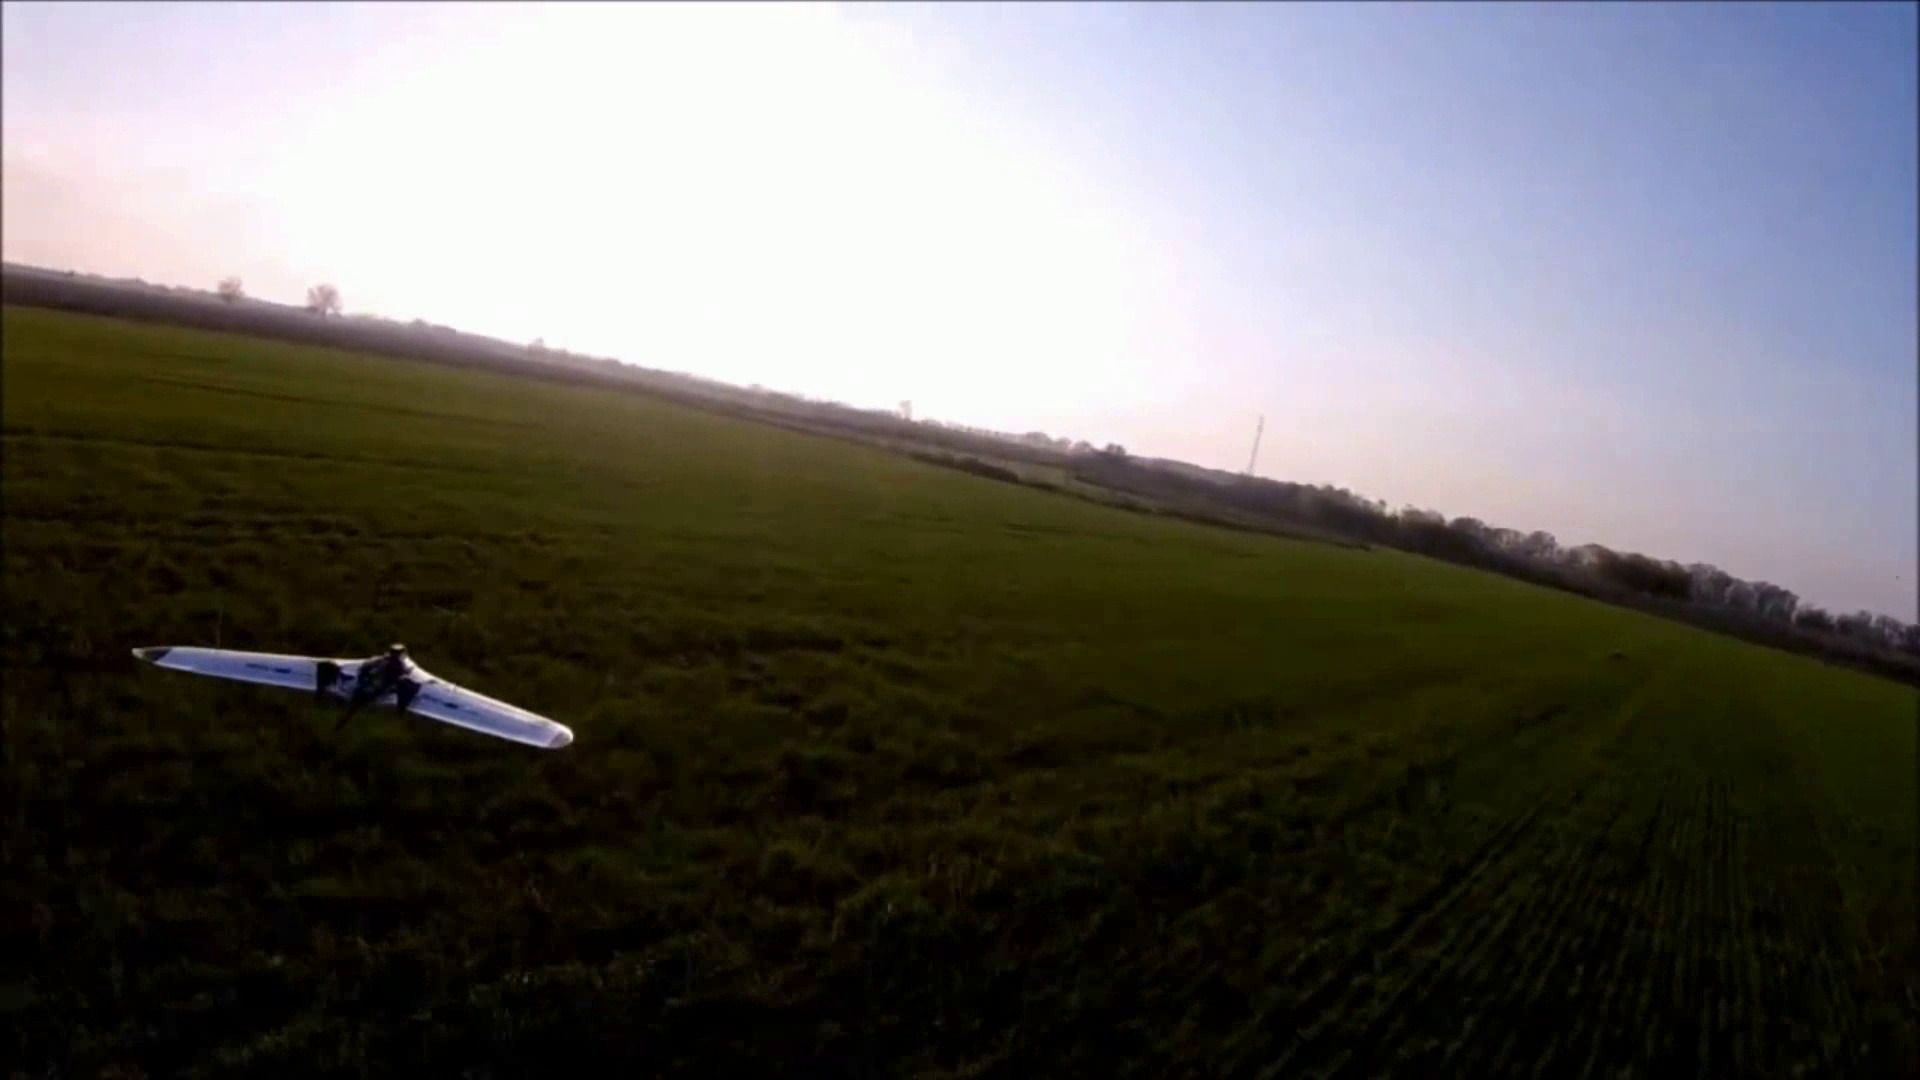airplane: (129, 642, 574, 754)
